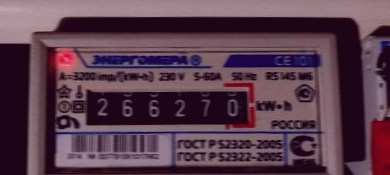0: (225, 95, 238, 115)
2: (94, 95, 109, 115), (172, 96, 186, 116)
6: (120, 95, 133, 116), (147, 96, 160, 116)
7: (198, 96, 210, 115)
screen: (76, 77, 260, 131)
